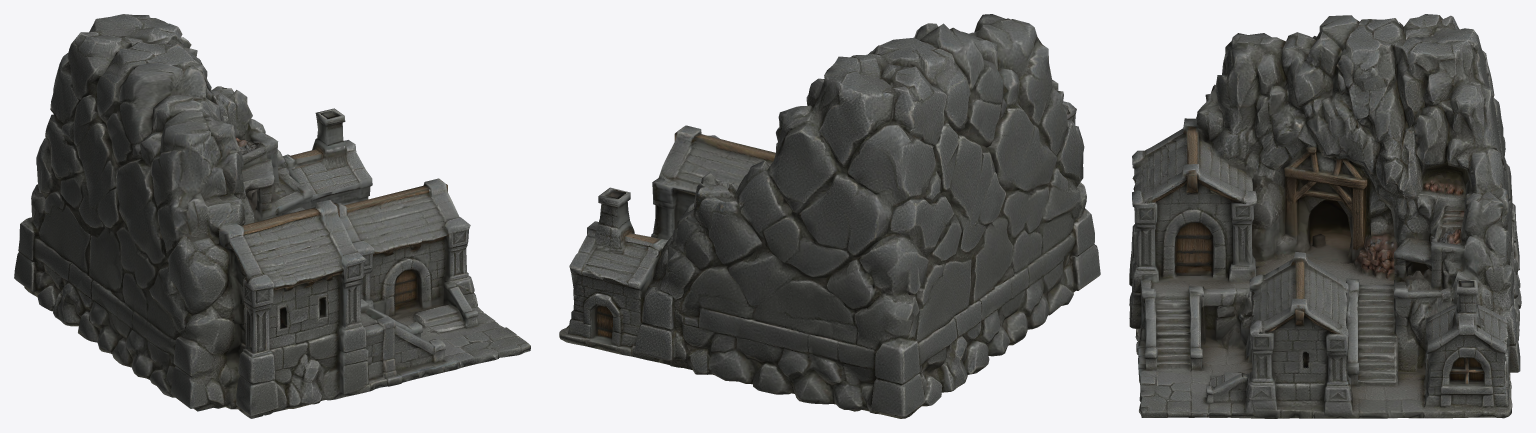
Rendered from dwarf-1.glb.
The picture shows the model from 3 angles, left to right: view 1: azimuth 30°, elevation 25°; view 2: azimuth 150°, elevation 25°; view 3: azimuth 270°, elevation 25°; orthographic projection. The views are drawn at different scales.
Parts seen in each view (by area): view 1: tripo_node_69c58768-0751-42b3-903c-876ef8e137b7; view 2: tripo_node_69c58768-0751-42b3-903c-876ef8e137b7; view 3: tripo_node_69c58768-0751-42b3-903c-876ef8e137b7.
Part boxes in pixels (x1=…): tripo_node_69c58768-0751-42b3-903c-876ef8e137b7: x1=14, y1=14, x2=530, y2=418; tripo_node_69c58768-0751-42b3-903c-876ef8e137b7: x1=559, y1=14, x2=1100, y2=418; tripo_node_69c58768-0751-42b3-903c-876ef8e137b7: x1=1129, y1=14, x2=1521, y2=418.
Bounding box in the file's own units: 0.9386 × 0.7595 × 1.
1 material, 1 textured.
